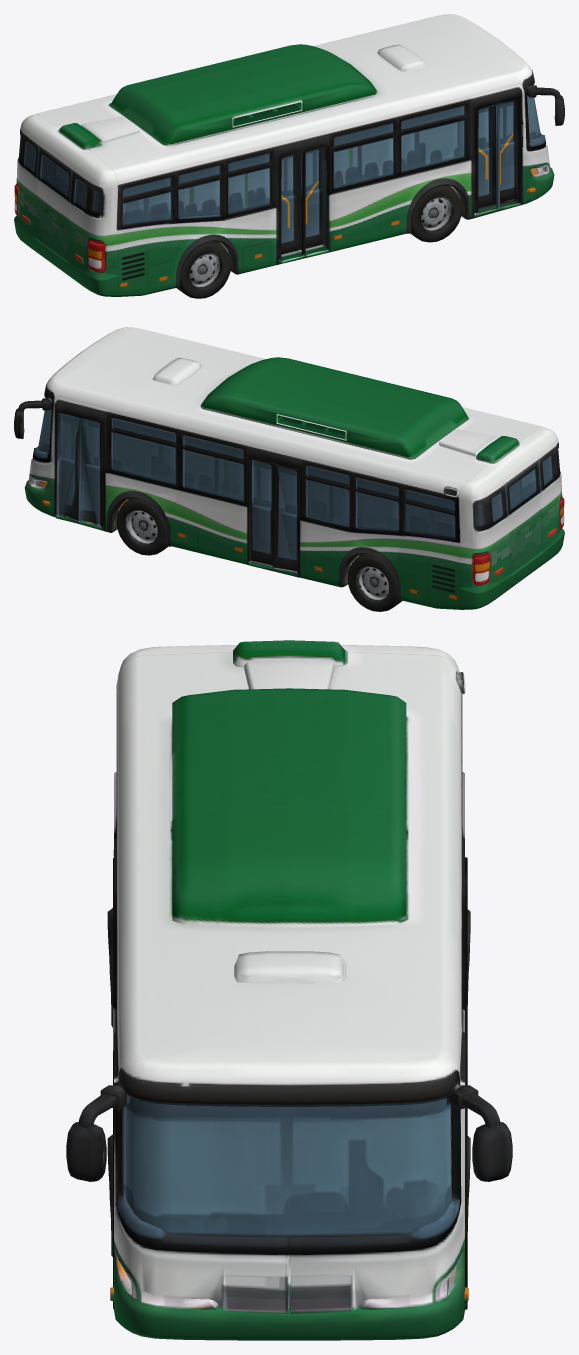
File: tripo_convert_e2ced2c8-01af-49e5-9b69-9f1f4d4df12c.fbx
3 views of the same model, one above another, from view 1: azimuth 30°, elevation 25°; view 2: azimuth 150°, elevation 25°; view 3: azimuth 270°, elevation 25° (orthographic). The views are drawn at different scales.
Parts seen in each view (by area): view 1: tripo_node_e2ced2c8; view 2: tripo_node_e2ced2c8; view 3: tripo_node_e2ced2c8.
Boxes of the visible parts, bbox=[...] form: tripo_node_e2ced2c8: bbox=[14, 14, 564, 298]; tripo_node_e2ced2c8: bbox=[14, 327, 564, 611]; tripo_node_e2ced2c8: bbox=[66, 640, 512, 1340].
Size of the model in its own units: 0.9995 by 0.3462 by 0.4116.
